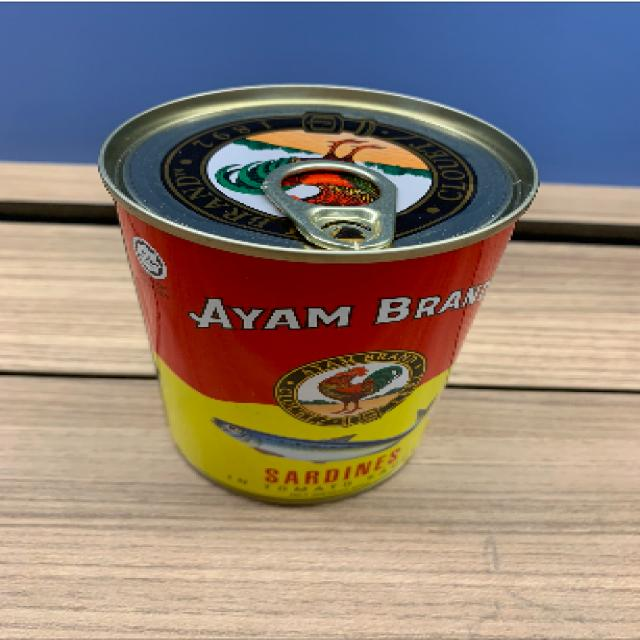object_name: (100, 86, 524, 506)
